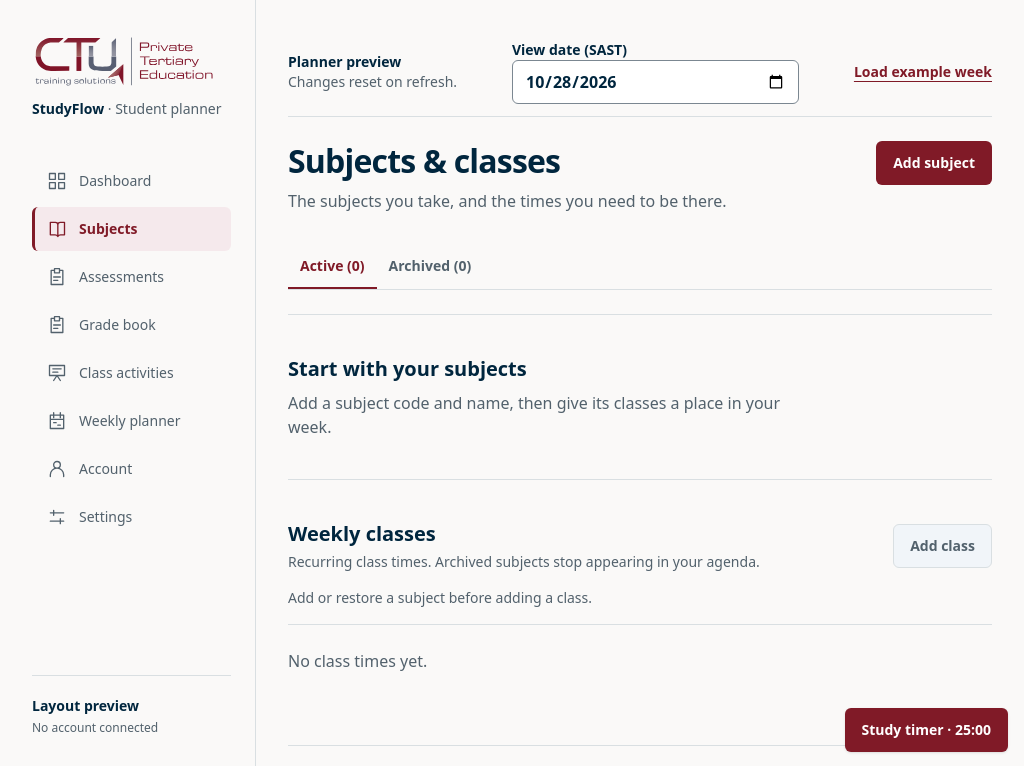
Test case: shared starter navigation › creates a subject through a labelled form, then permits an assessment
The width and height of the screenshot is (1024, 766).
Click the button "Add subject" at point(934, 163), box [876,141,992,185]
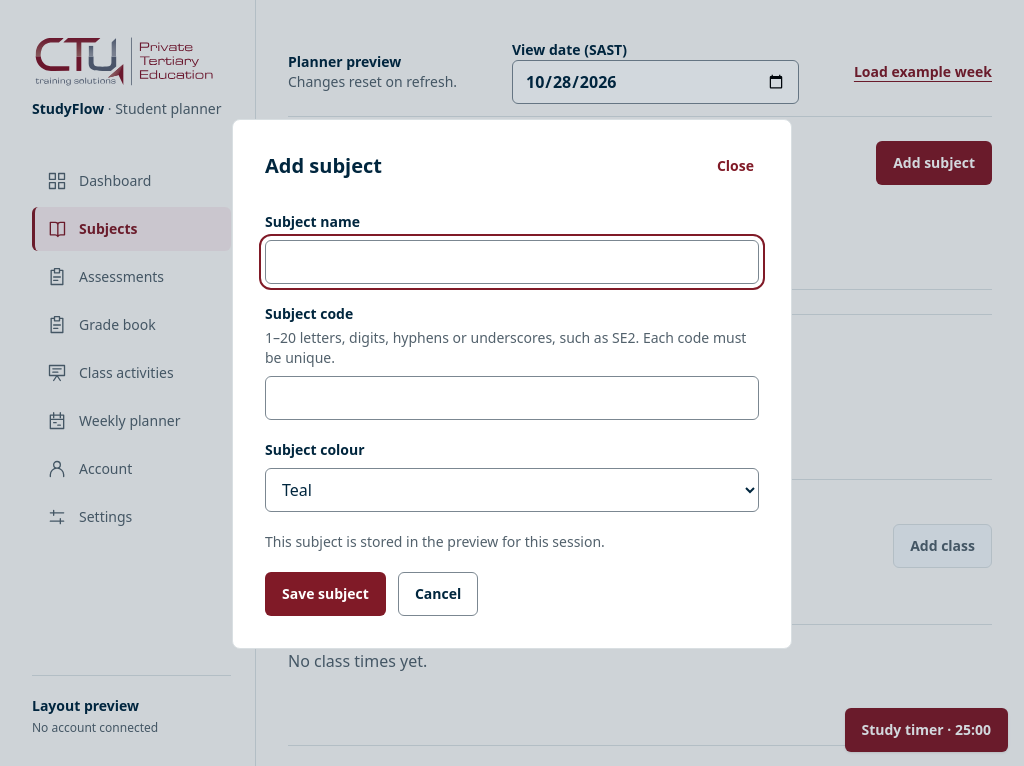
Type "Software Engineering 2" into the field labelled "Subject name" at point(512, 262), box [265,240,759,284]
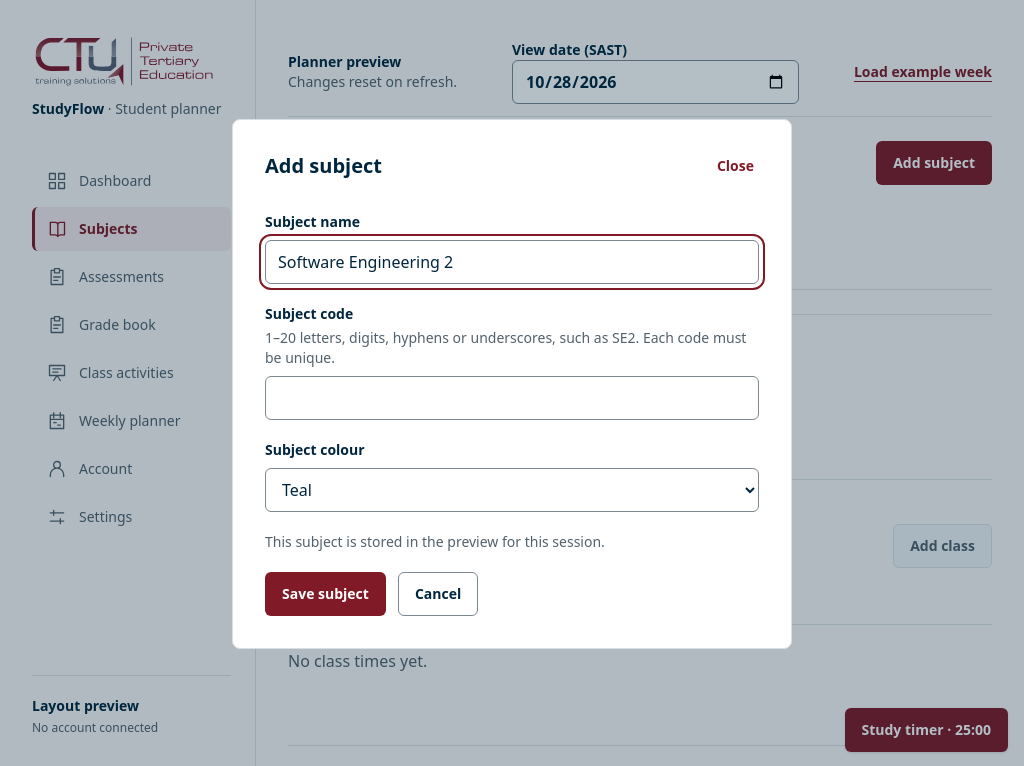
Type "SE2" into the field labelled "Subject code" at point(512, 398), box [265,376,759,420]
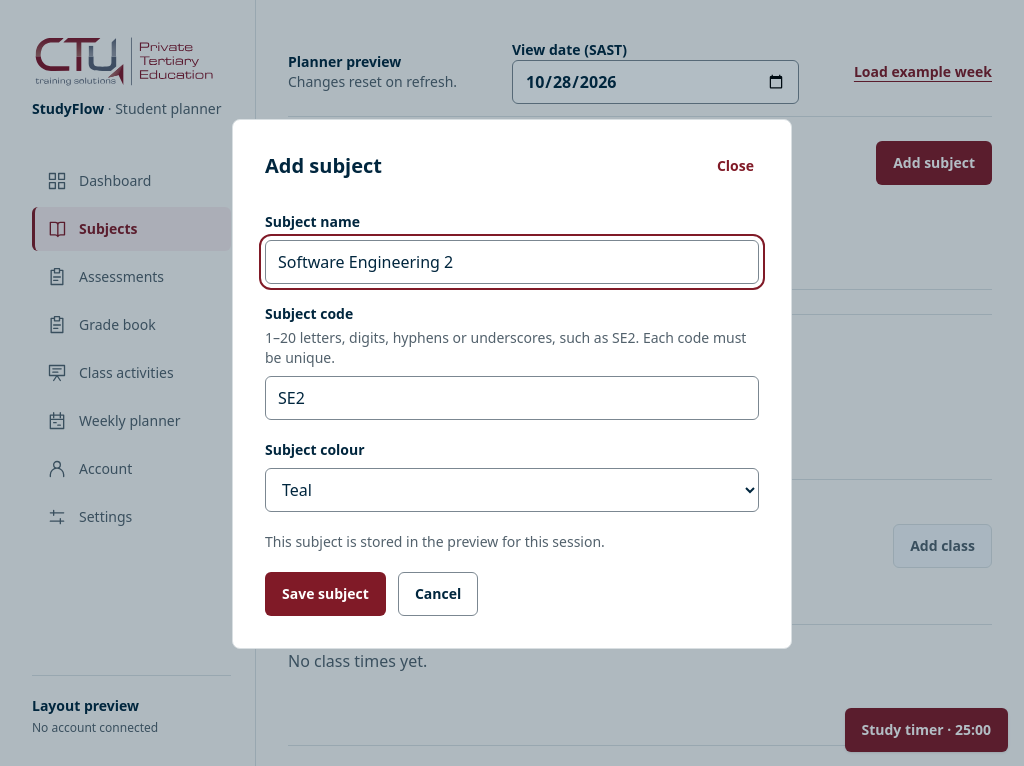
Click the button "Save subject" at point(325, 594), box [265,572,386,616]
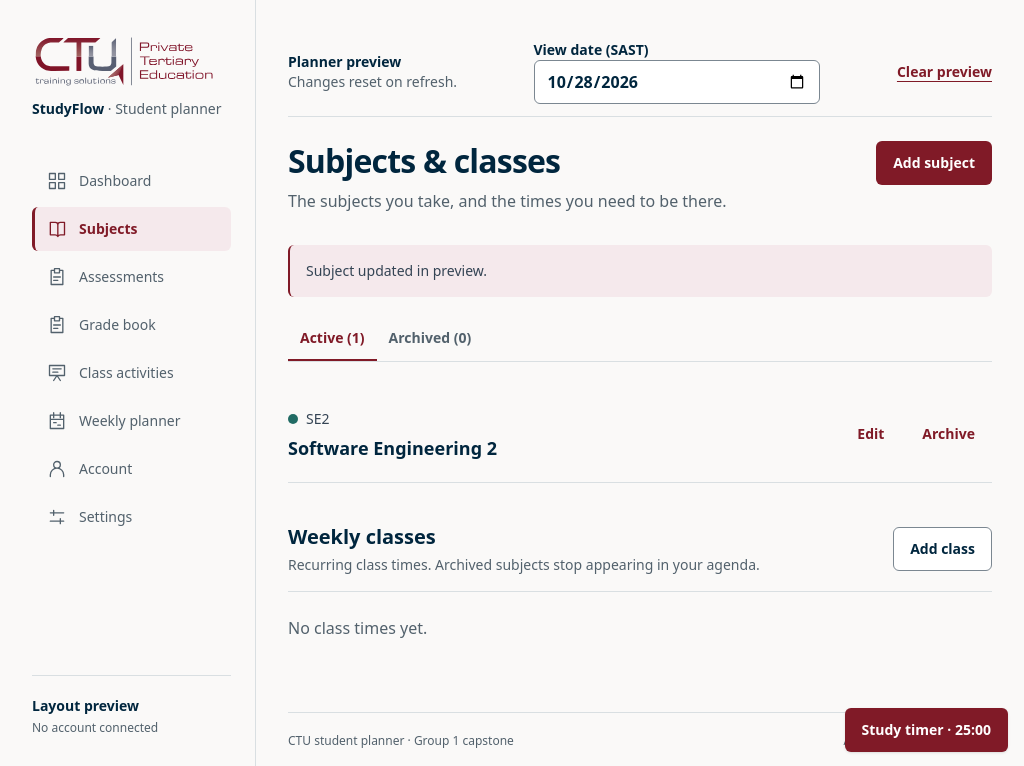
Now the heading "Software Engineering 2" is shown, box [288,434,497,462]
Now the dialog is gone
Click the link "Assessments" at point(106, 277), box [47,267,164,287]
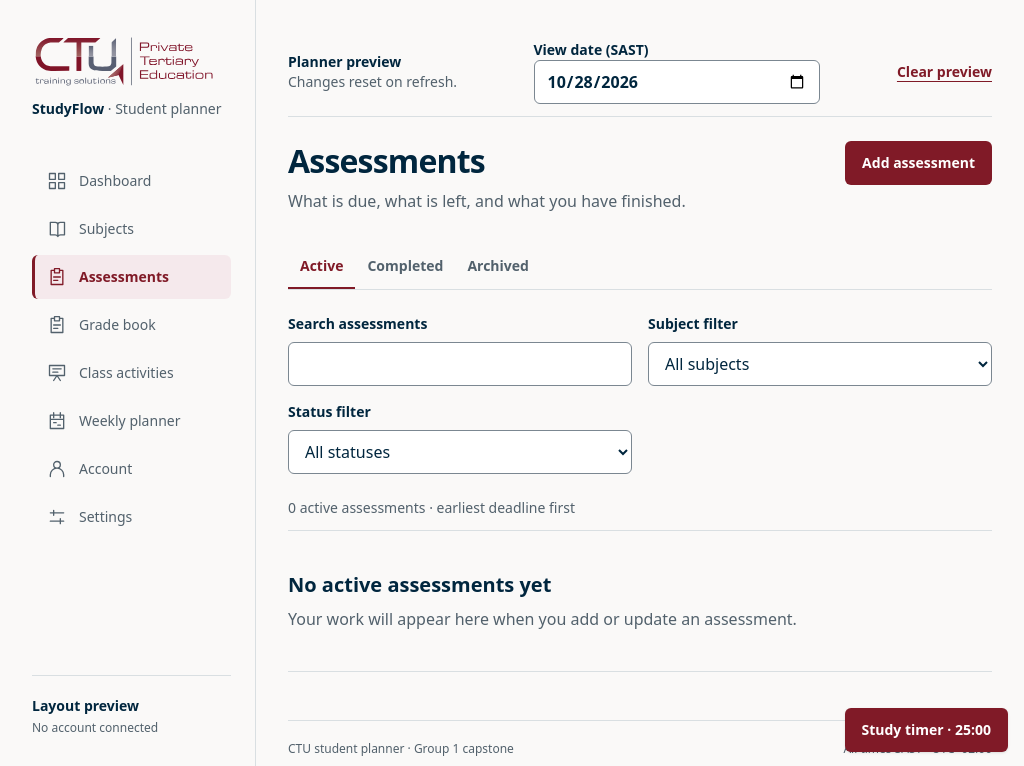
Now the button "Add assessment" is enabled, box [845,141,992,185]
